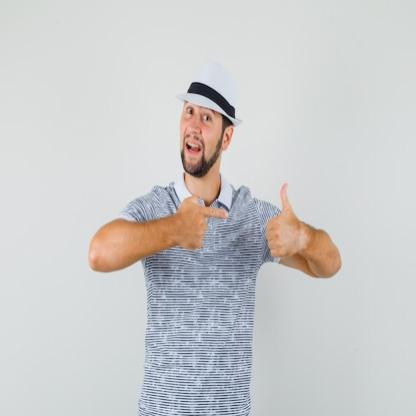thumb_up: (264, 178, 304, 265)
